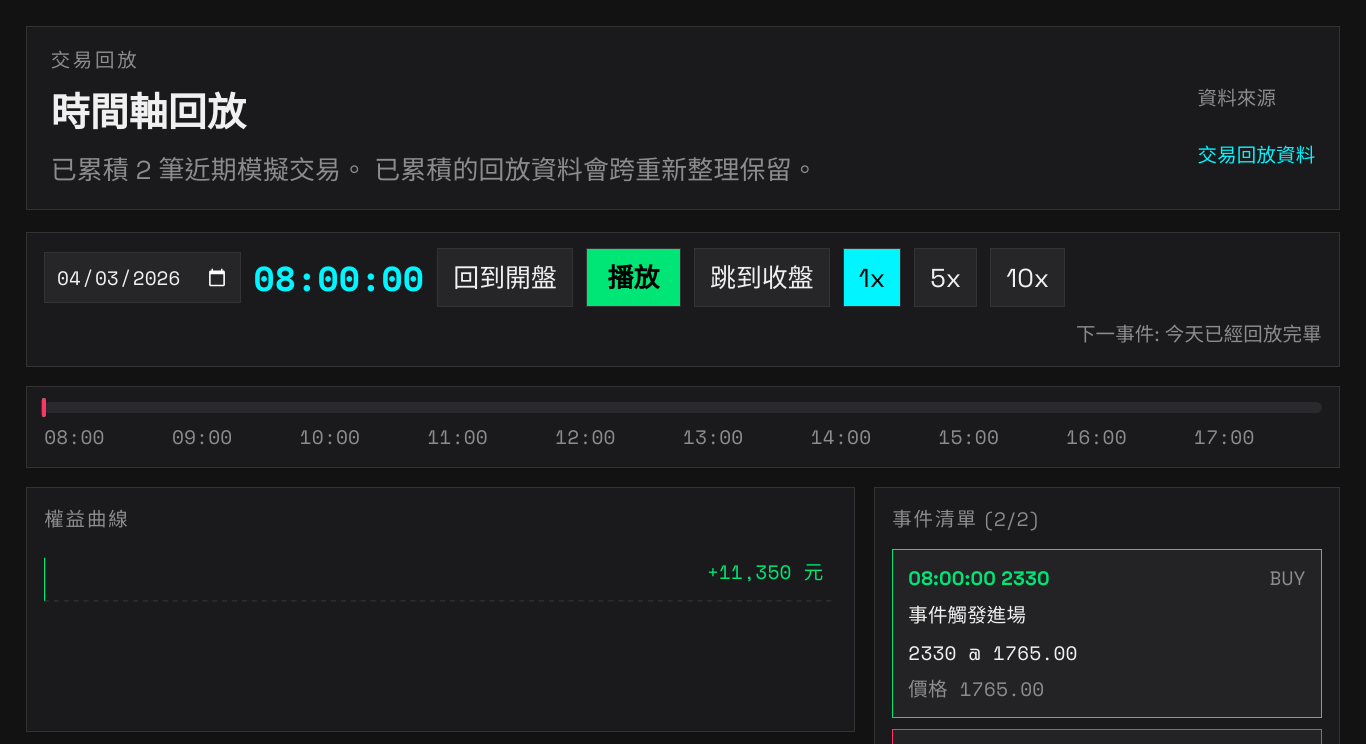
page copy quality › shows an empty replay state for dates without trades
Type "2026-03-01" into the date field showing "2026-04-03" at (142, 278), box [44,252,240,303]
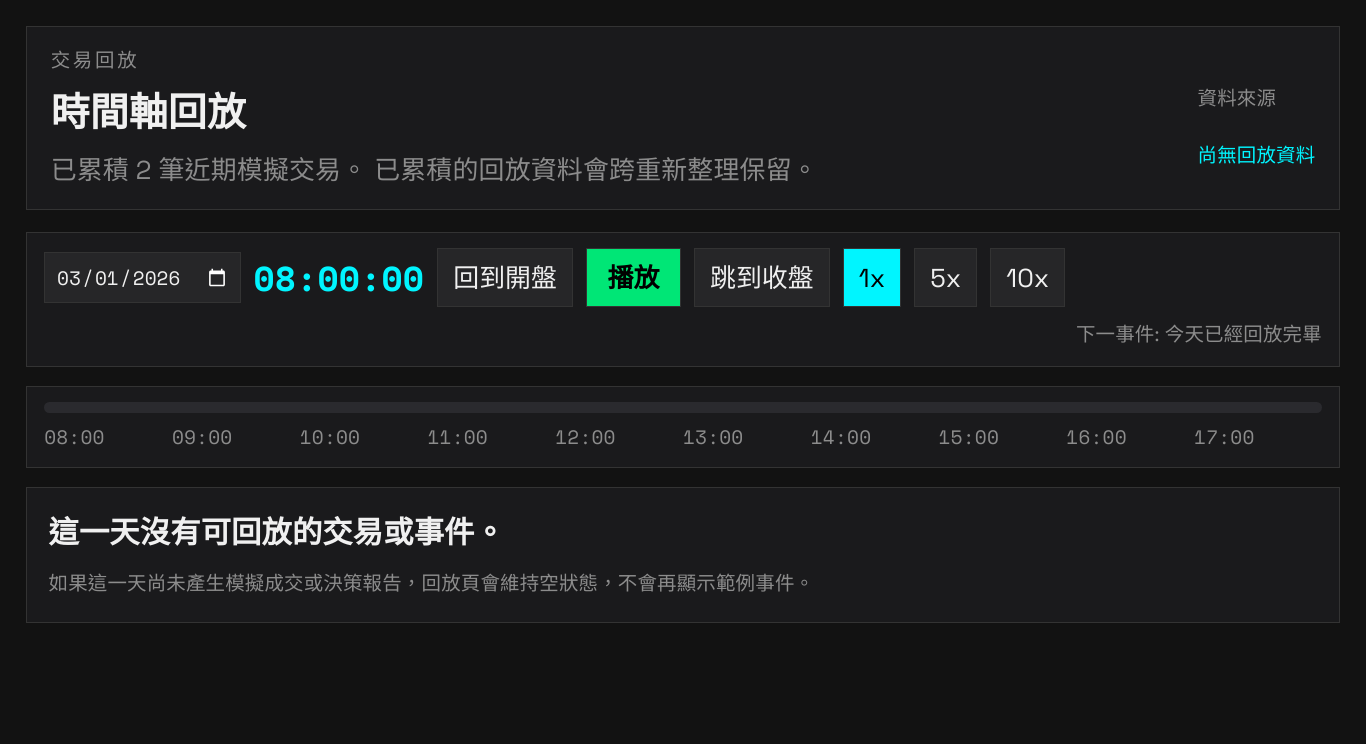
Now the text "這一天沒有可回放的交易或事件。" is shown, box [48,513,505,552]
